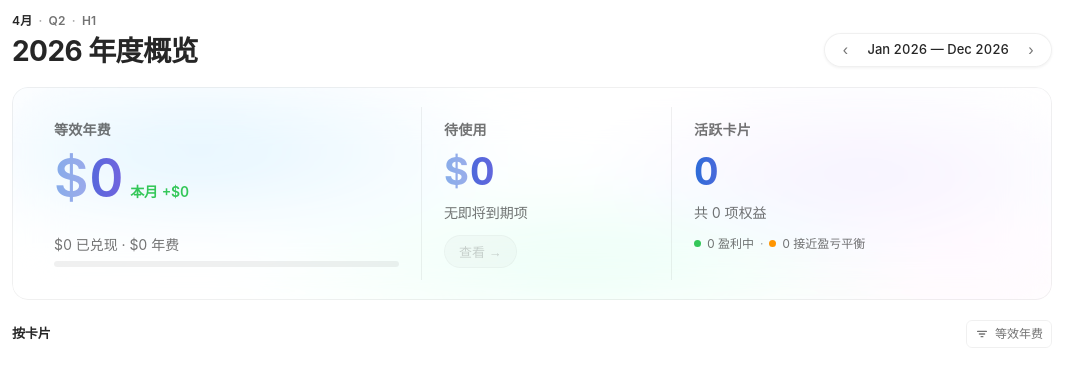
Test: Dashboard › hides 待使用 cell when selected year is not current year
Expected: the element with test id "hero-pending" is shown, [421, 107, 671, 280]
Click the button named "Previous year" at (845, 50), box [833, 38, 857, 62]
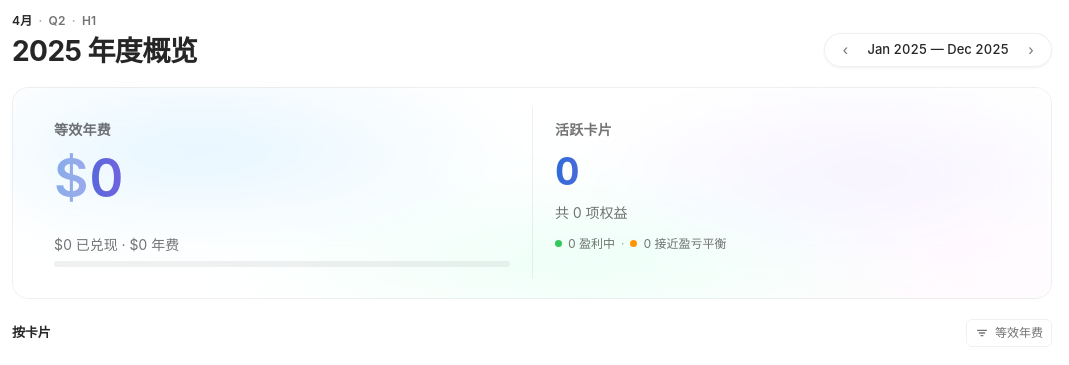
Now the element with test id "hero-pending" is gone
Now the button with test id "hero-review-btn" is gone
